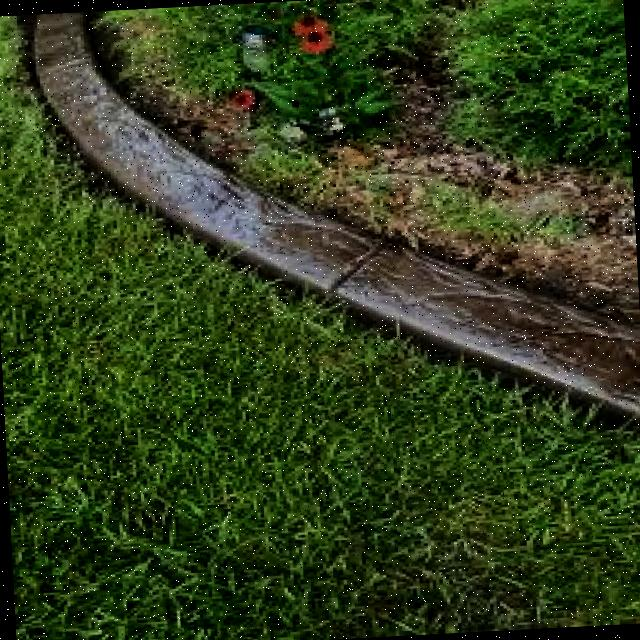curb: (360, 218, 640, 426), (106, 171, 384, 304)
